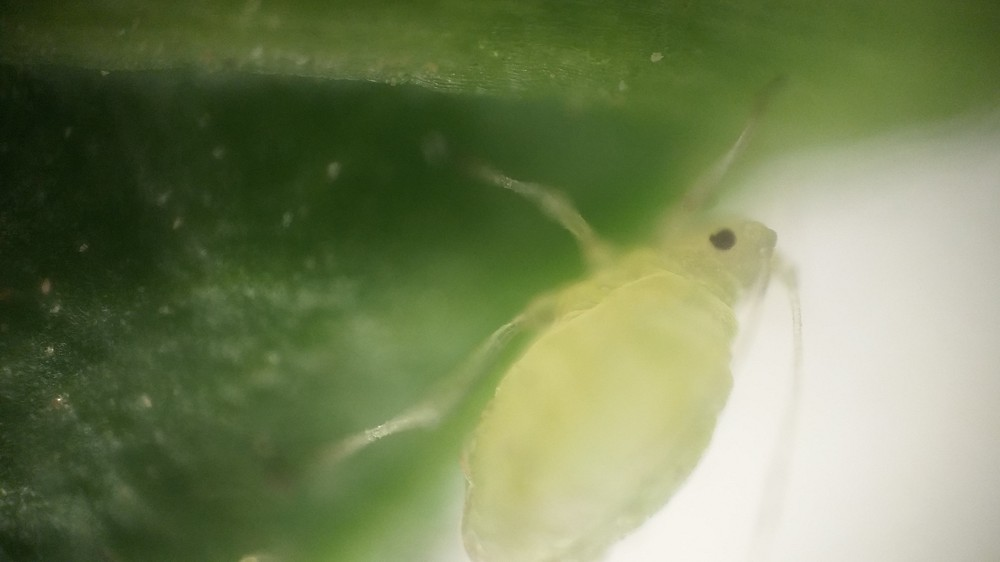Pulgon: (372, 72, 812, 562)
